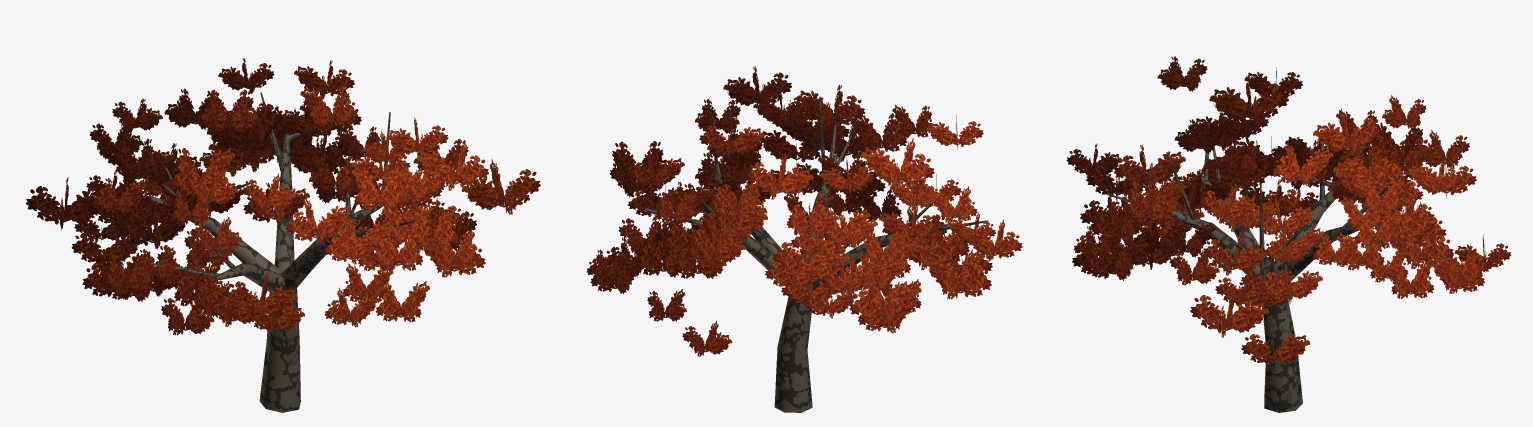
The model's file is maple0_maple_lod0.fbx.
3 views of the same model, side by side, from view 1: azimuth 30°, elevation 25°; view 2: azimuth 150°, elevation 25°; view 3: azimuth 270°, elevation 25° (orthographic). The views are drawn at different scales.
Parts seen in each view (by area): view 1: maple0_maple_lod0; view 2: maple0_maple_lod0; view 3: maple0_maple_lod0.
Boxes of the visible parts, bbox=[...] form: maple0_maple_lod0: bbox=[26, 58, 540, 412]; maple0_maple_lod0: bbox=[586, 66, 1022, 412]; maple0_maple_lod0: bbox=[1066, 56, 1511, 412].
Bounding box in the file's own units: 12.49 × 8.81 × 11.37.
Materials: 2 (2 with a texture image).
